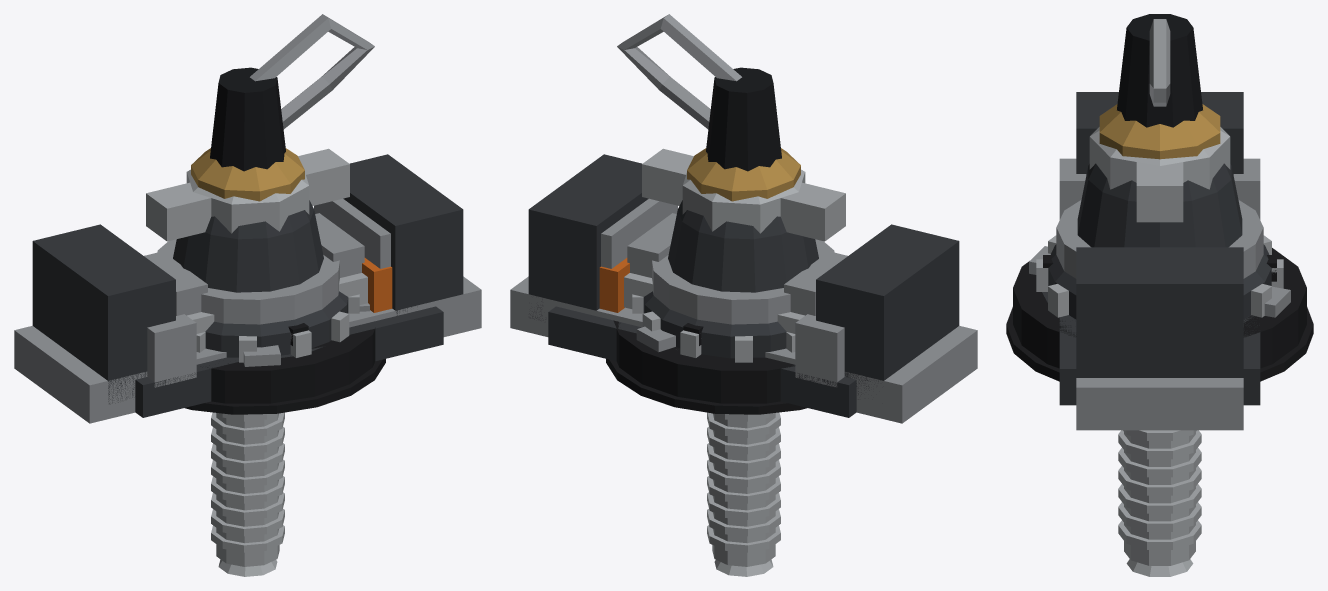
File: hardware.glb
3 views of the same model, side by side, from view 1: azimuth 30°, elevation 25°; view 2: azimuth 150°, elevation 25°; view 3: azimuth 270°, elevation 25° (orthographic). The views are drawn at different scales.
Parts seen in each view (by area): view 1: ClampA, Plug, Socket, BoltA_Spin, LatchA, ClampA_Spin, PinA_Spin, PinA, BoltA, LatchA_Spin; view 2: ClampA, Plug, Socket, BoltA_Spin, LatchA, ClampA_Spin, PinA_Spin, PinA, BoltA, LatchA_Spin; view 3: ClampA, Plug, BoltA_Spin, Socket, PinA_Spin, ClampA_Spin, LatchA, BoltA.
Boxes of the visible parts, box(x1,y1,x2,y2) form: ClampA: box(14, 154, 481, 423); Plug: box(173, 67, 359, 362); Socket: box(157, 239, 375, 403); BoltA_Spin: box(211, 323, 308, 576); LatchA: box(135, 198, 443, 417); ClampA_Spin: box(146, 148, 349, 241); PinA_Spin: box(191, 14, 374, 201); PinA: box(144, 213, 364, 315); BoltA: box(185, 359, 385, 414); LatchA_Spin: box(187, 258, 392, 333); ClampA: box(510, 154, 977, 423); Plug: box(632, 67, 818, 362); Socket: box(613, 239, 834, 403); BoltA_Spin: box(683, 323, 780, 576); LatchA: box(548, 198, 856, 417); ClampA_Spin: box(642, 148, 845, 241); PinA_Spin: box(617, 14, 800, 201); PinA: box(627, 213, 847, 315); BoltA: box(606, 359, 806, 414); LatchA_Spin: box(599, 258, 804, 333); ClampA: box(1076, 92, 1243, 430); Plug: box(1036, 14, 1283, 319); BoltA_Spin: box(1043, 255, 1276, 576); Socket: box(1013, 200, 1306, 368); PinA_Spin: box(1099, 19, 1220, 159); ClampA_Spin: box(1089, 127, 1230, 222); LatchA: box(1059, 158, 1260, 405); BoltA: box(1006, 307, 1313, 381).
Bounding box in the file's own units: 0.15 × 0.1936 × 0.092.
